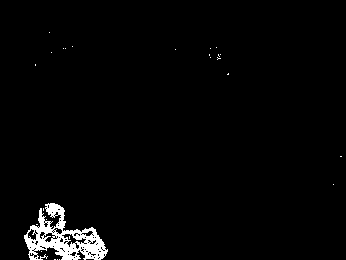person: (22, 202, 108, 260)
